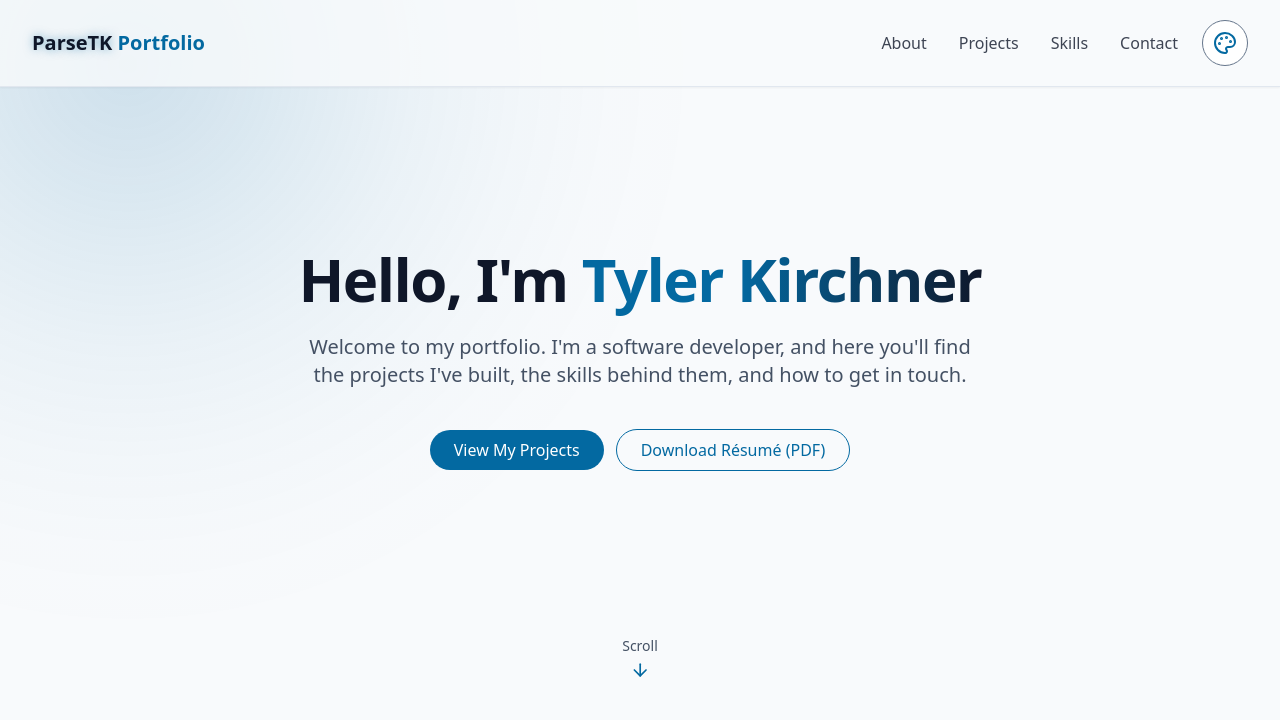
Test: Style panel › shows every registry option with its own preview
This screenshot has width=1280, height=720.
Click the button named "Style options".
click(1225, 43)  # box top-left (1202, 20), bottom-right (1248, 66)
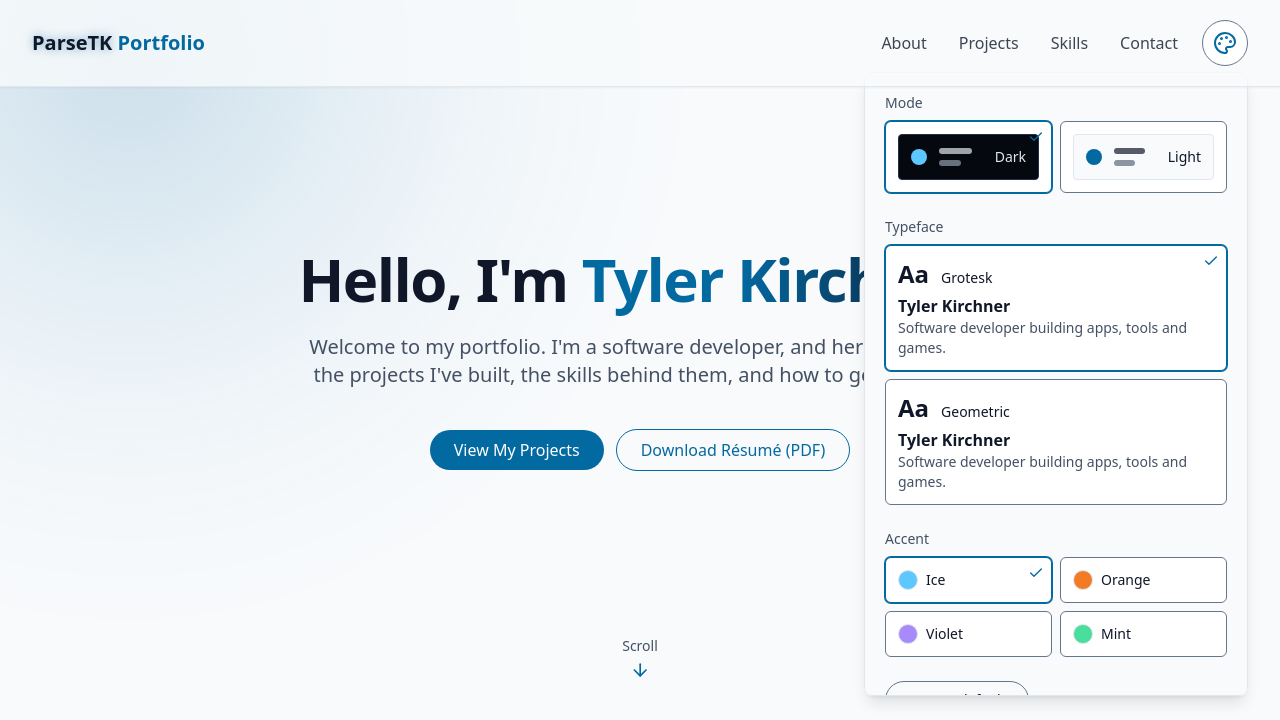
Result: the radio button labelled "Dark" is shown at top-left (885, 121), bottom-right (1052, 193)
Result: the radio button labelled "Light" is shown at top-left (1060, 121), bottom-right (1227, 193)
Result: the radio button labelled "Grotesk" is shown at top-left (885, 245), bottom-right (1227, 371)
